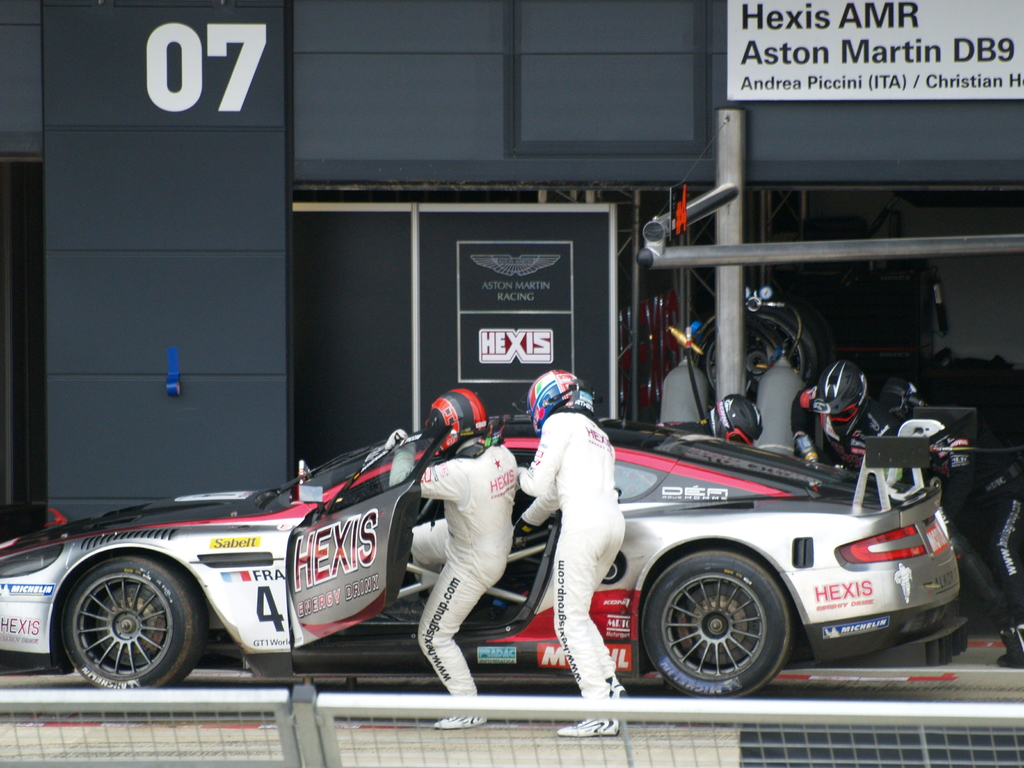cars: (0, 410, 971, 695)
